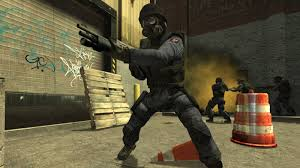gun: (74, 21, 136, 69), (255, 84, 278, 94)
